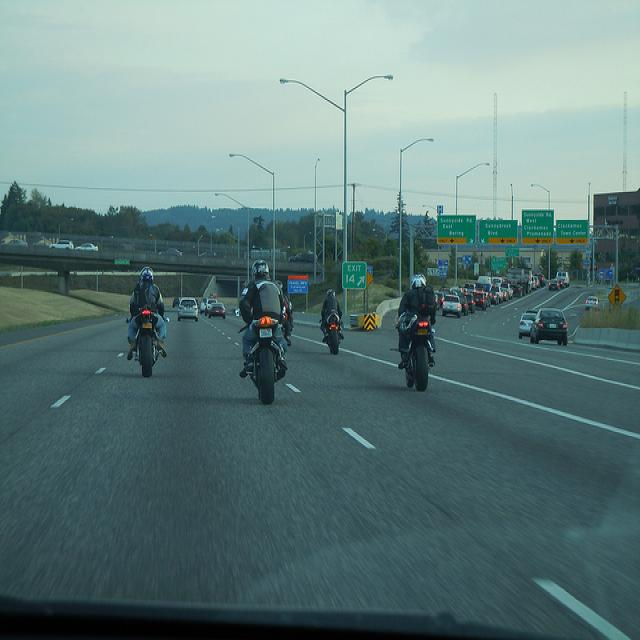motor: (249, 317, 286, 406), (404, 319, 436, 392), (133, 306, 163, 378), (325, 313, 342, 355), (280, 301, 294, 346)
